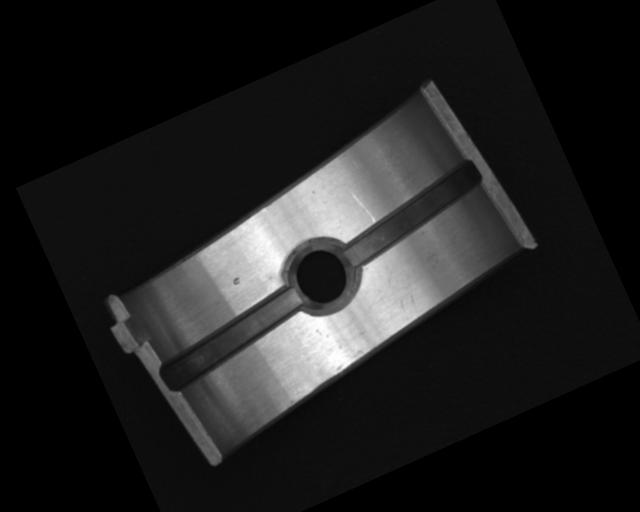bruise: (231, 275, 242, 286)
gap: (329, 157, 494, 271), (149, 284, 315, 394)
hole: (275, 226, 370, 324)
nick: (348, 185, 376, 227)
